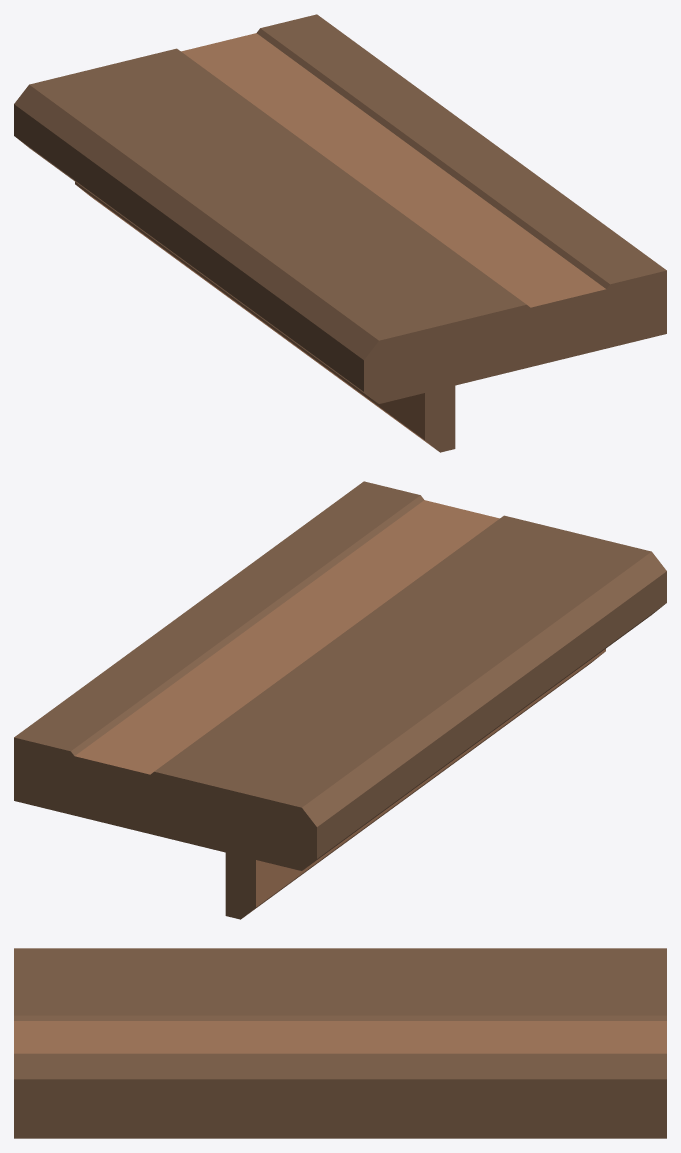
Rendered from Prop_Dining_Room_Table_Modular_Side.obj.
3 views of the same model, one above another, from view 1: azimuth 30°, elevation 25°; view 2: azimuth 150°, elevation 25°; view 3: azimuth 270°, elevation 25° (orthographic). The views are drawn at different scales.
Parts seen in each view (by area): view 1: object1; view 2: object1; view 3: object1.
Part boxes in pixels (left/top/right/bottom): object1: left=14, top=14, right=666, bottom=452; object1: left=14, top=481, right=666, bottom=919; object1: left=14, top=948, right=666, bottom=1138.
Size of the model in its own units: 0.5 by 0.2 by 1.
